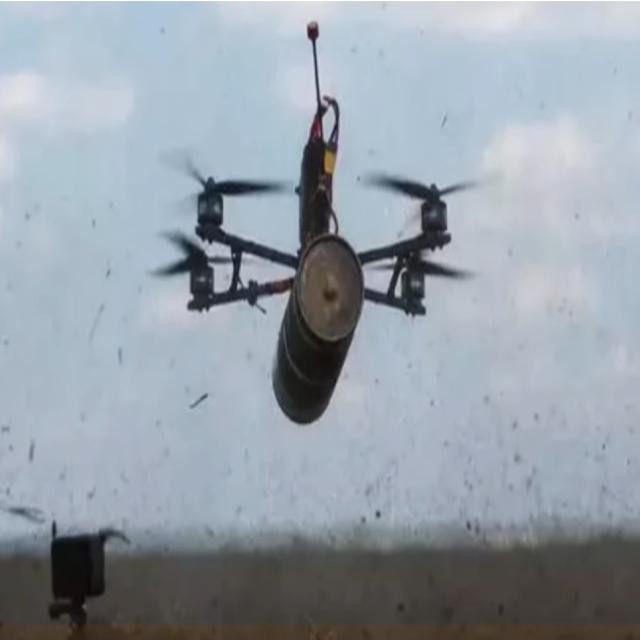drone: (148, 110, 492, 432)
